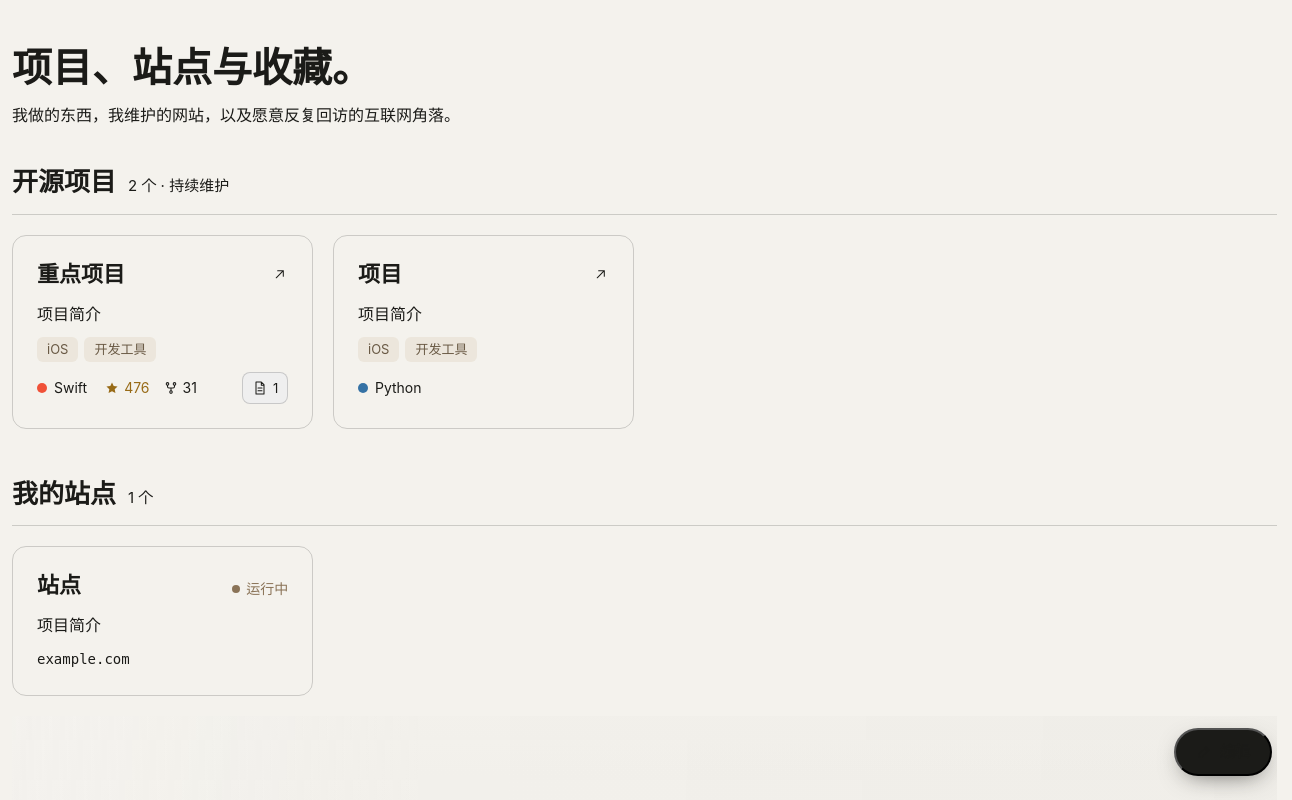
Test: 探索页 › 所有者进入编辑后能看到隐藏条目、空分组和添加入口
Click the button "编辑" at [1223, 752], box top-left (1174, 728), bottom-right (1272, 776)
(page scrolled)
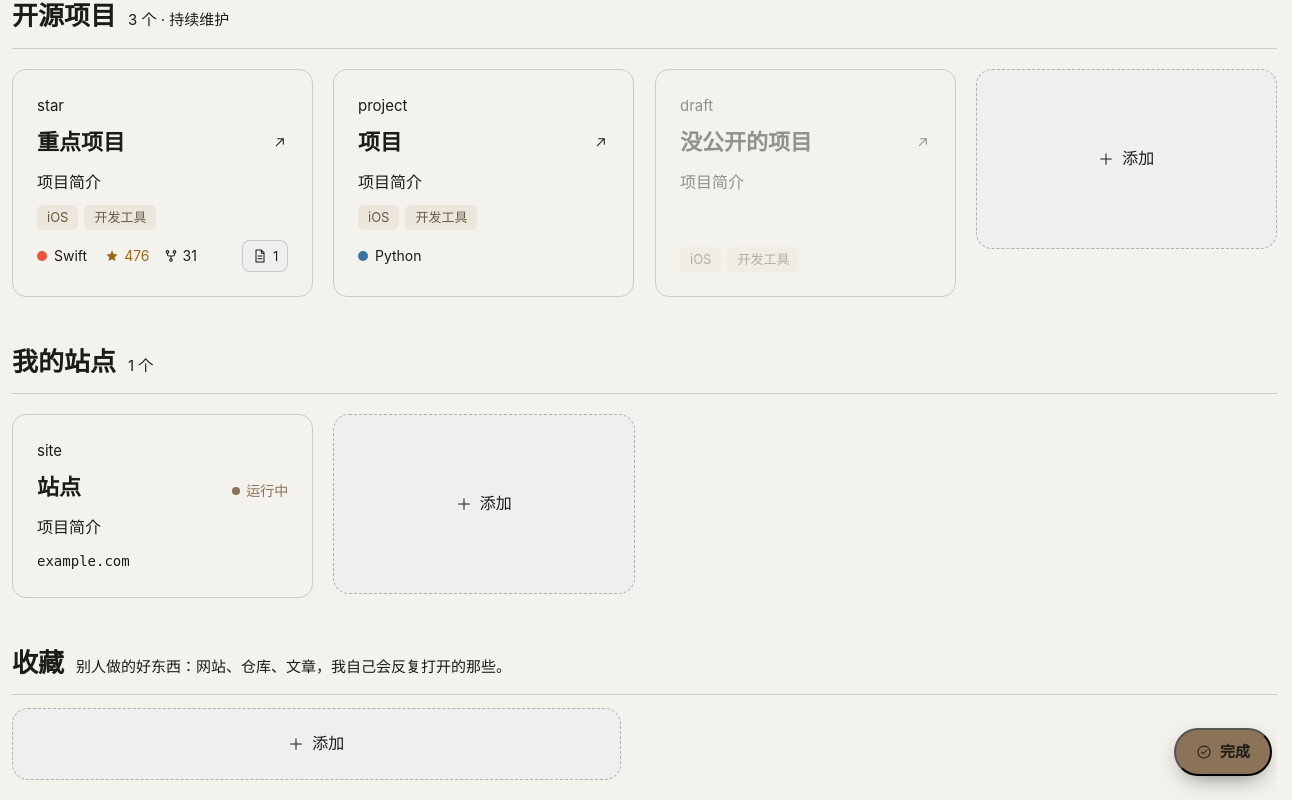
Expected: the heading "没公开的项目" is shown, top-left (680, 130), bottom-right (812, 155)
Expected: the heading "收藏" is shown, top-left (12, 646), bottom-right (64, 682)
Expected: the number of buttons "添加" is 3, top-left (976, 69), bottom-right (1277, 249); top-left (333, 414), bottom-right (635, 594); top-left (12, 708), bottom-right (620, 780)
